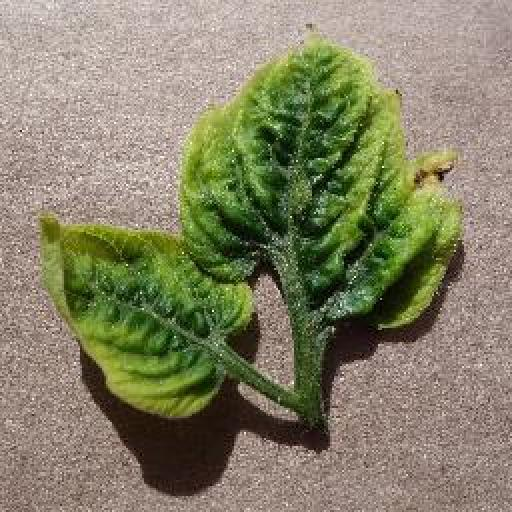disease_tomato: (178, 41, 458, 332), (40, 215, 257, 421)
